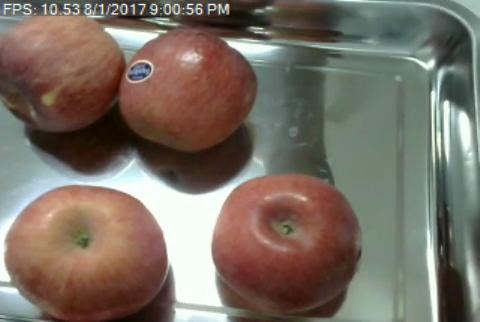apple: (5, 185, 168, 320), (211, 173, 363, 314), (122, 28, 260, 151), (1, 16, 117, 133)
